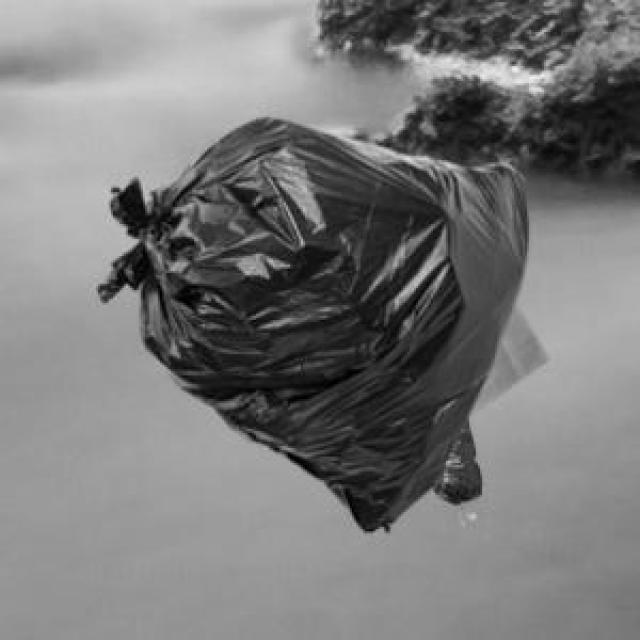miscellaneous trash: (94, 113, 525, 527), (427, 416, 478, 499)
paper: (465, 299, 544, 410)
